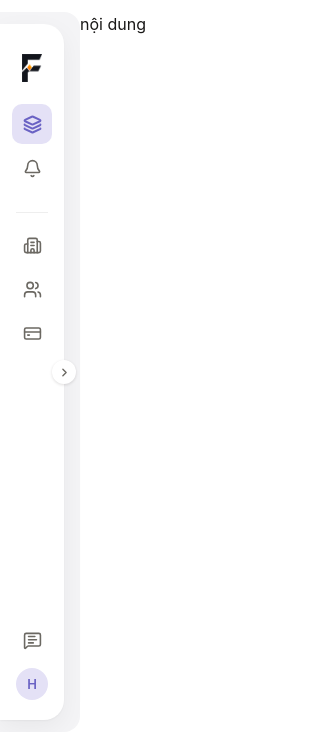
Scenario: tổ chức đang mở › hiện tên tổ chức đang mở dưới nhãn Tổ chức
Step 1. Click the button named "Mở rộng thanh bên" → (64, 372), box x1=52 y1=360 x2=76 y2=384
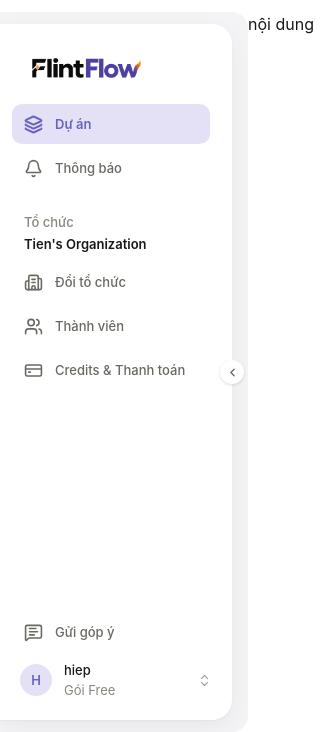
Check: the text with test id "active-org-name" reads "Tien's Organization", box x1=24 y1=236 x2=146 y2=252
